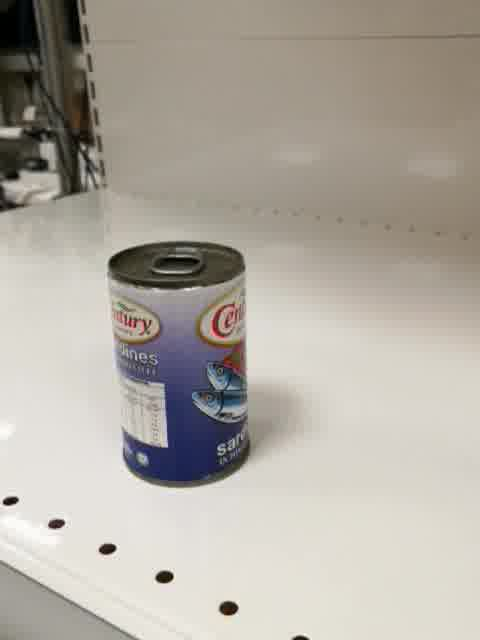sardine: (106, 239, 254, 490)
